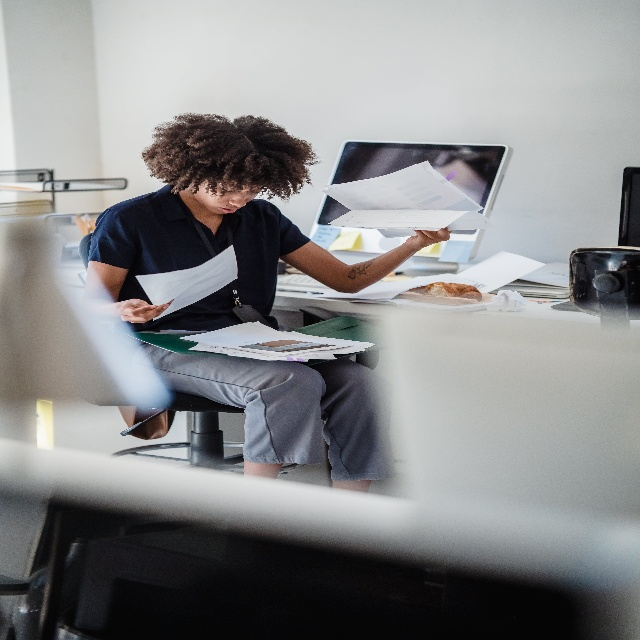Sin_guantes: (118, 298, 170, 324), (405, 226, 452, 254)
